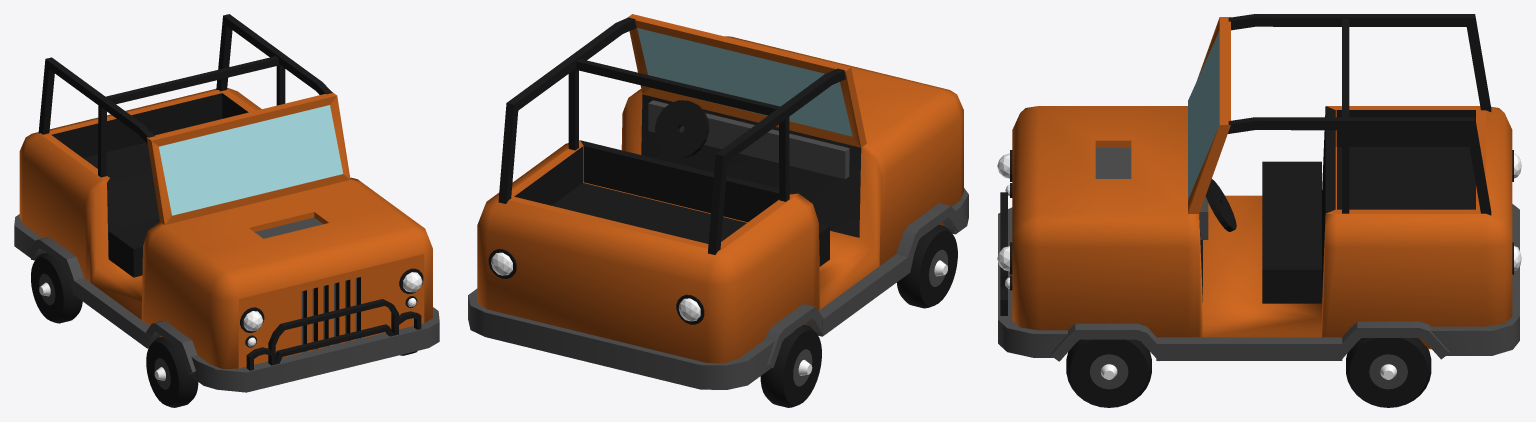
File: Jeep_1385.gltf
3 renders of one model, left to right at view 1: azimuth 30°, elevation 25°; view 2: azimuth 150°, elevation 25°; view 3: azimuth 270°, elevation 25°, orthographic. The views are drawn at different scales.
Parts seen in each view (by area): view 1: node-0; view 2: node-0; view 3: node-0.
Boxes of the visible parts, x1,y1,x2,y2 form: node-0: (14, 14, 439, 407); node-0: (468, 14, 968, 407); node-0: (997, 14, 1521, 407).
Size of the model in its own units: 35.23 by 30.27 by 52.51.
